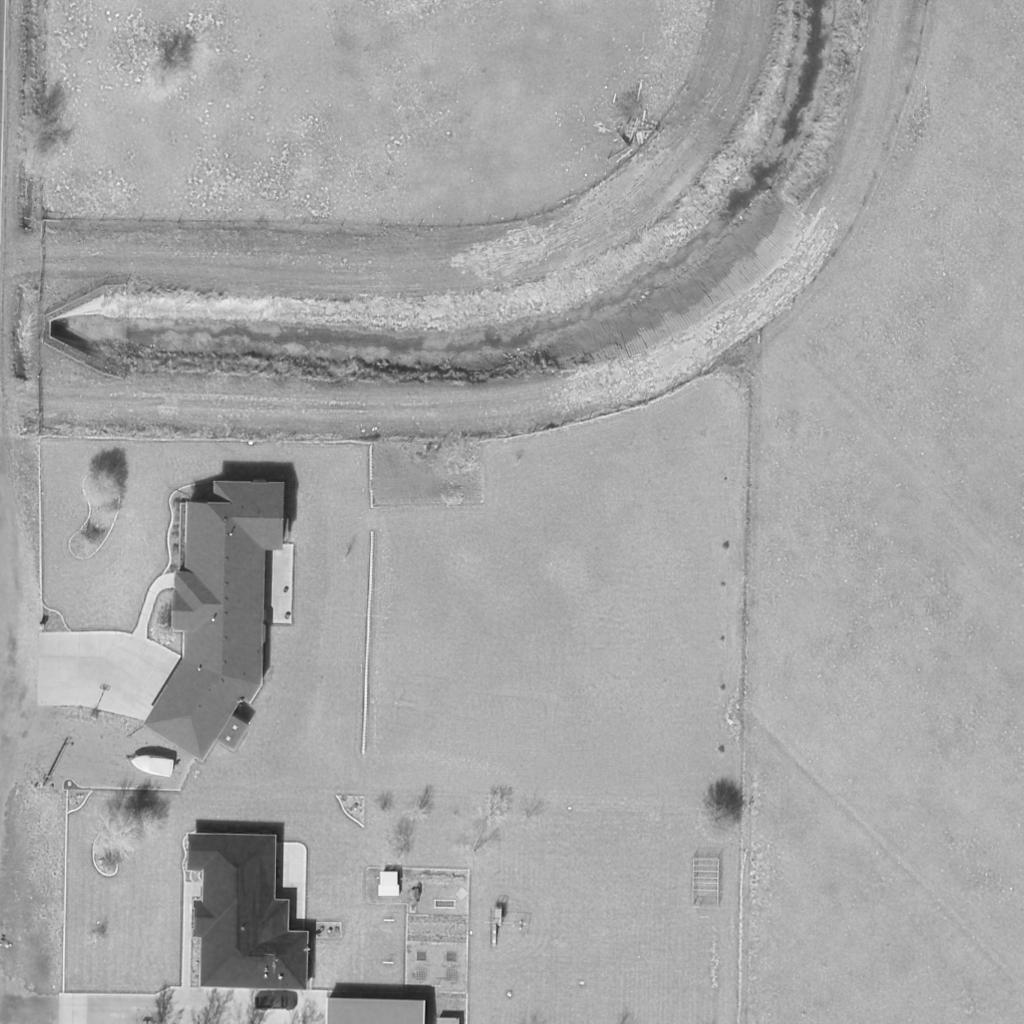vehicle: (124, 750, 174, 778), (255, 991, 301, 1011)
